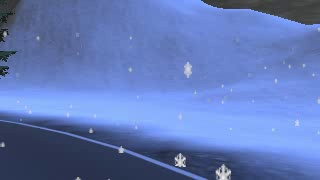Lane: (0, 119, 209, 179)
